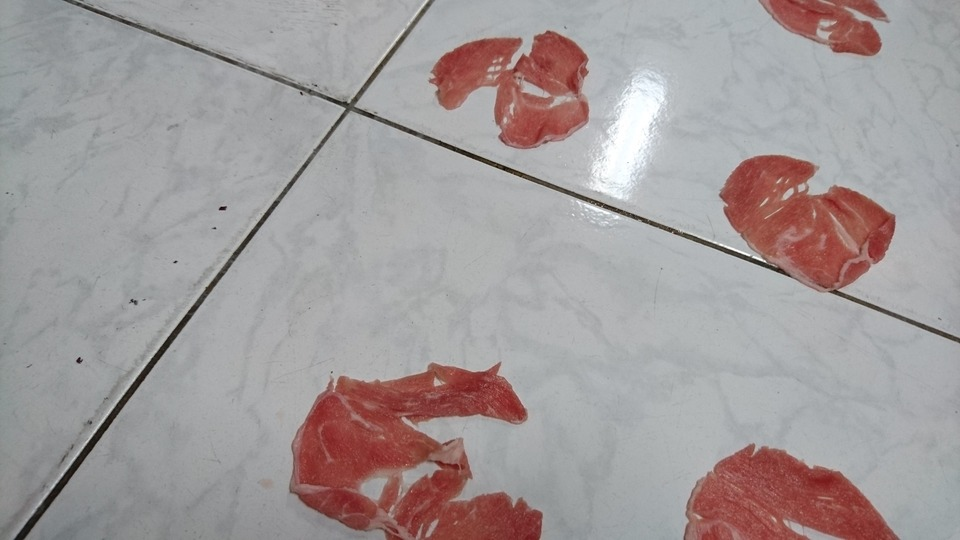restructured meat: (260, 343, 538, 540), (725, 145, 892, 308), (436, 13, 599, 159), (663, 448, 891, 540), (760, 4, 892, 63)
